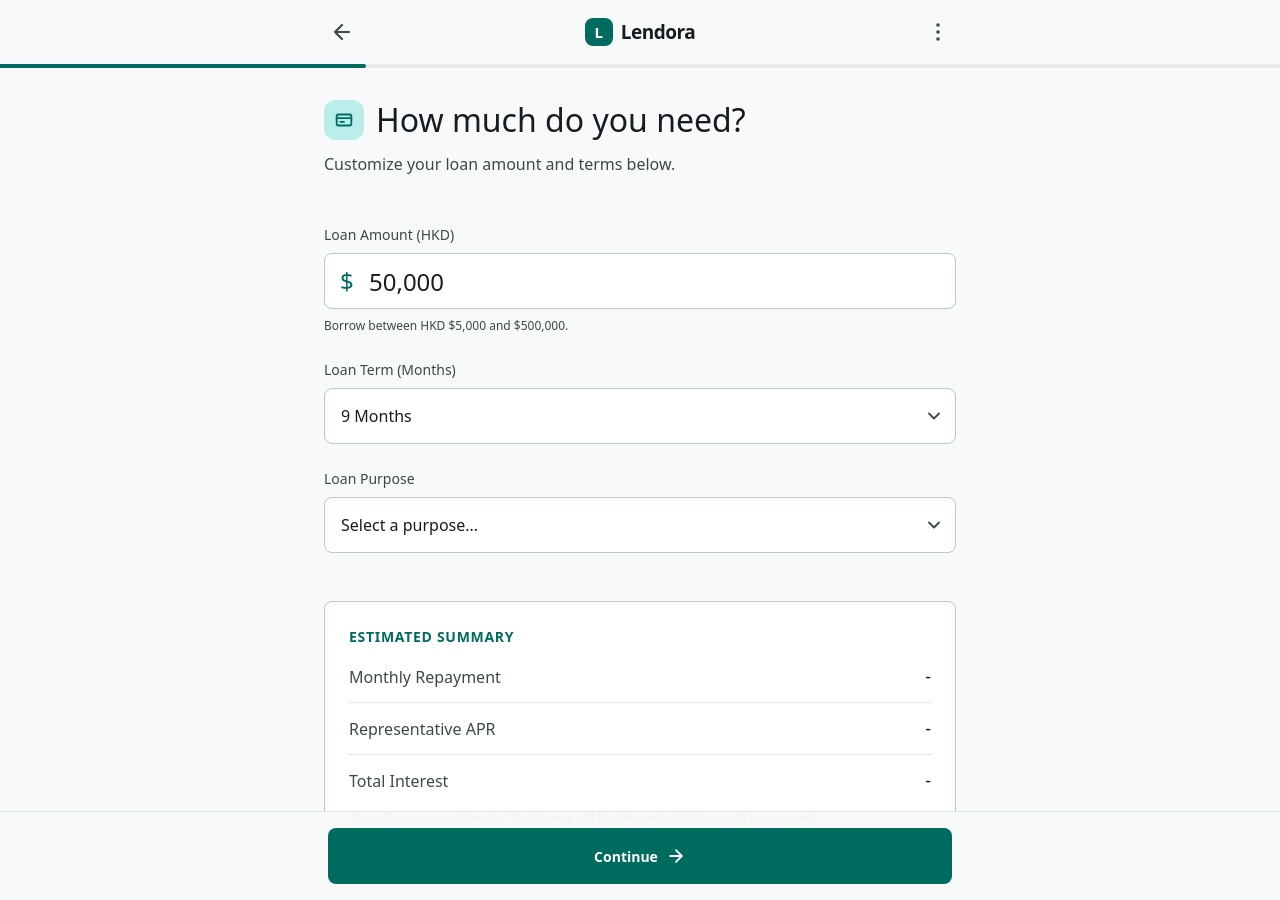
Test case: LoanRequestScreen › shows pricing from the BFF quote response
Select "Debt Consolidation" in the dropdown labelled "Loan Purpose" at (640, 525), box [324,497,956,553]
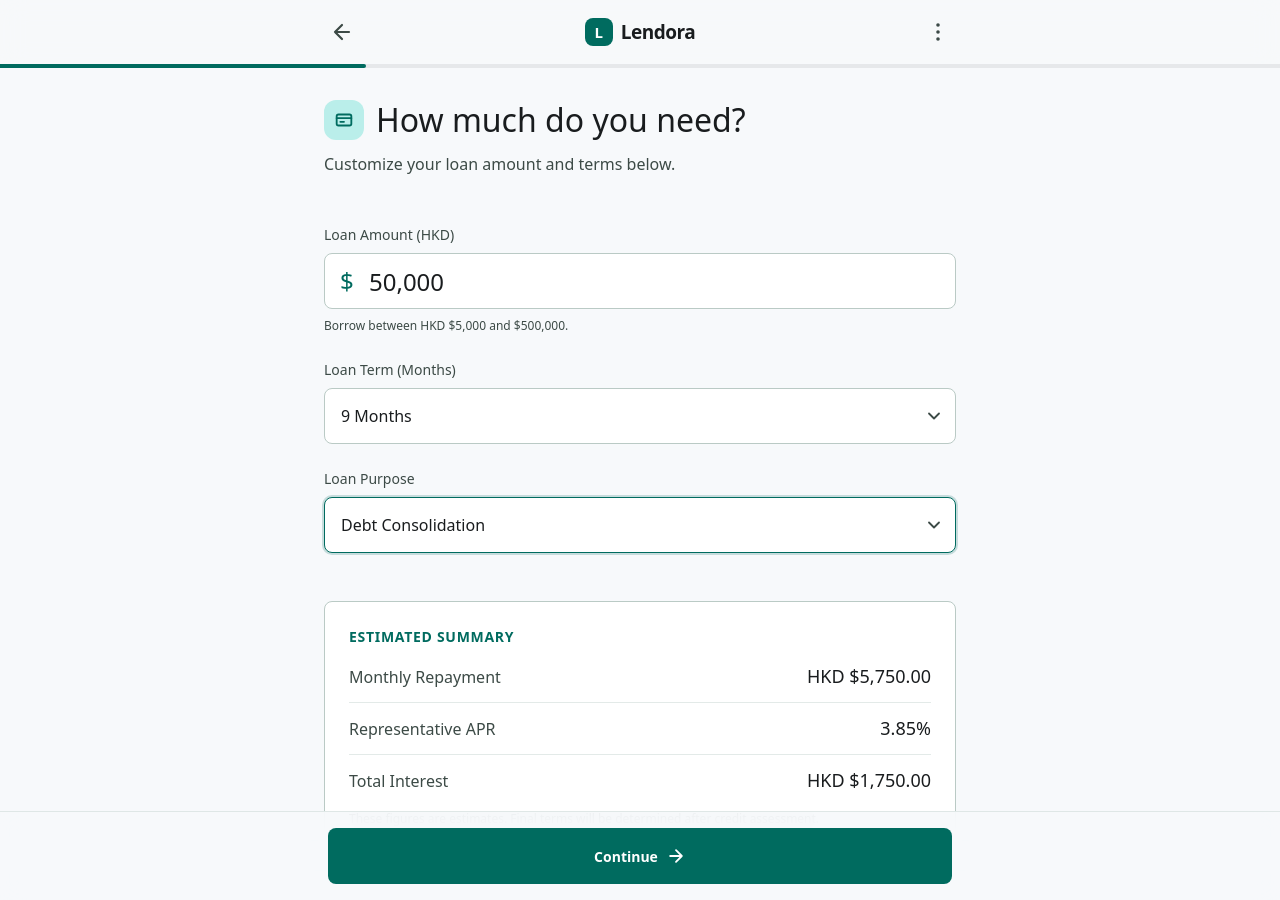
Check: the text "HKD $5,750.00" is shown, box [807,663,931,690]
